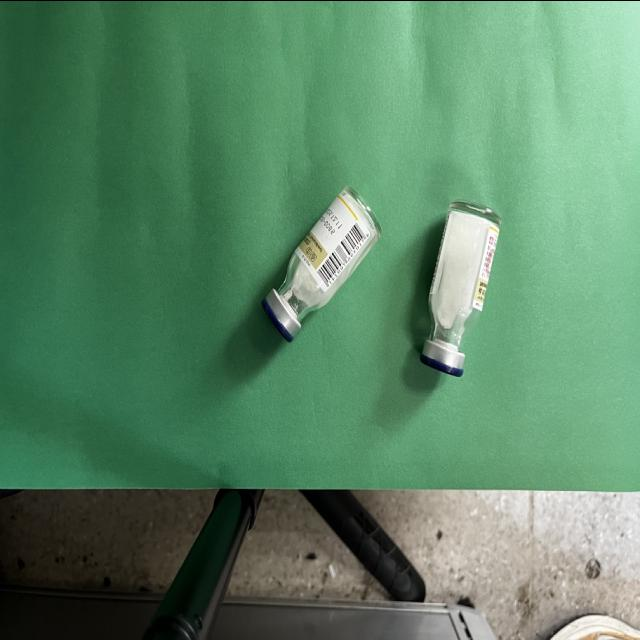Vials: (262, 187, 380, 341), (420, 200, 500, 376)
